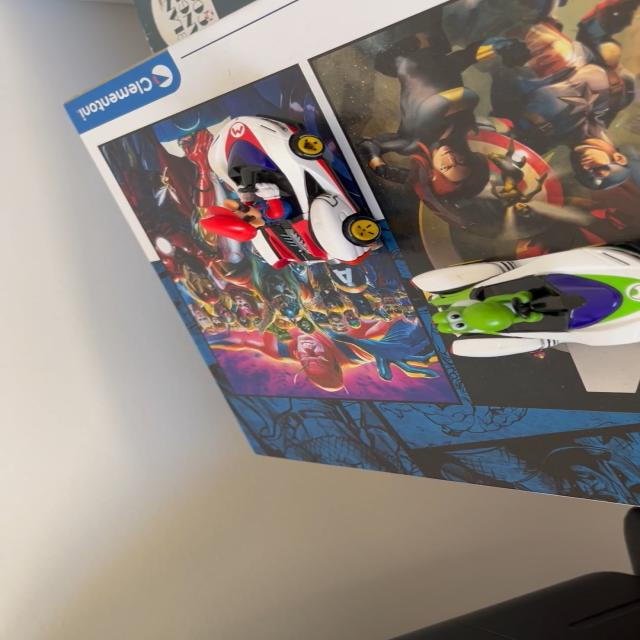mario: (188, 114, 397, 274)
yoshi: (393, 236, 637, 369)
